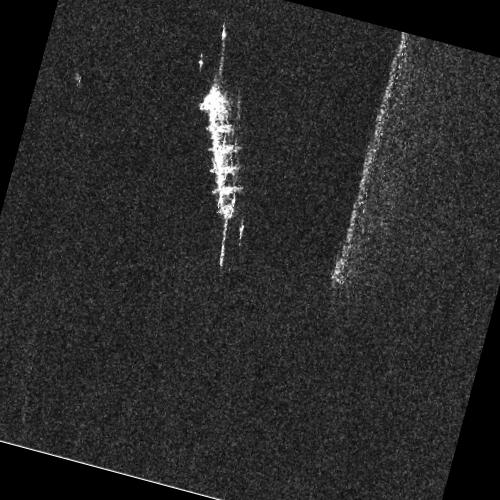ship: (198, 79, 243, 221)
